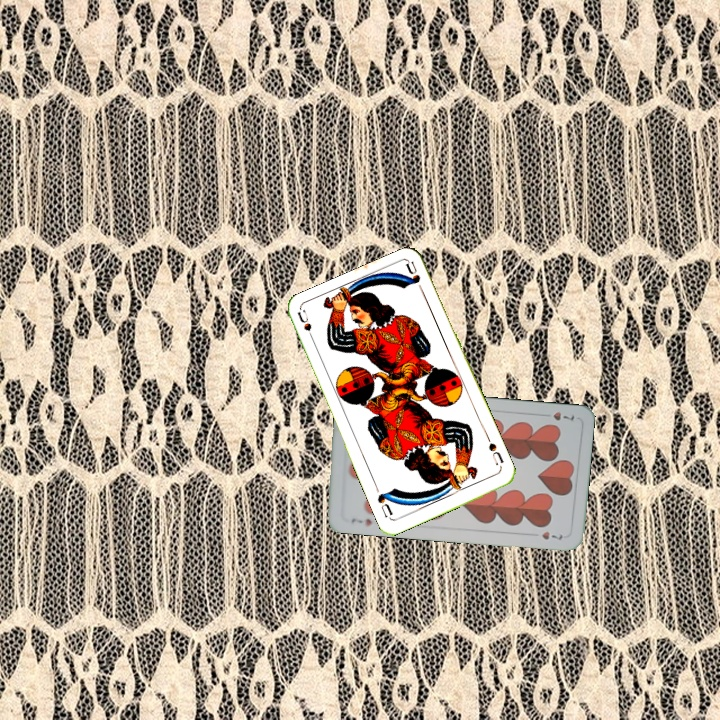H7: (538, 408, 577, 423), (347, 514, 374, 528)
SU: (294, 307, 318, 347), (484, 439, 506, 467)
